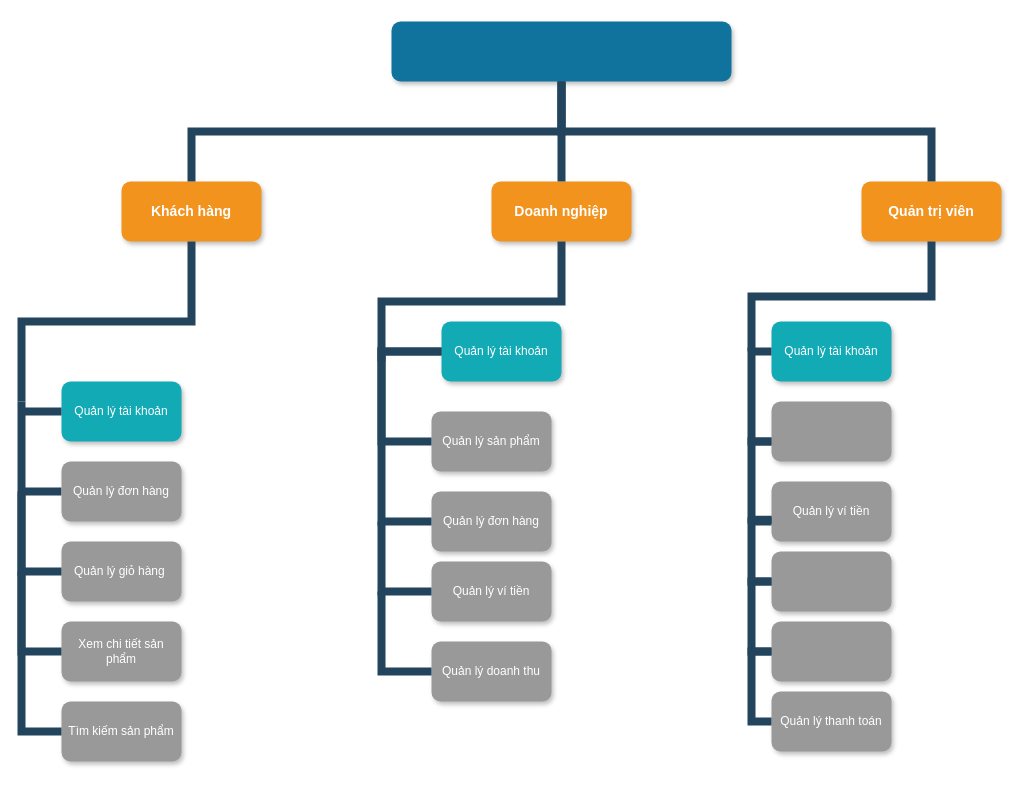
Some shapes in this 1024 by 785 pixel diagram are drawn without their labels. The shapes that lost their labels are listed below. From the top down, each one's centre as x and y in pixels, then its label:
At point 562,52: "VendorVault".
At point 832,432: "Quản lý doanh nghiệp".
At point 832,582: "Quản lý danh mục".
At point 832,652: "Quản lý bài viết".
